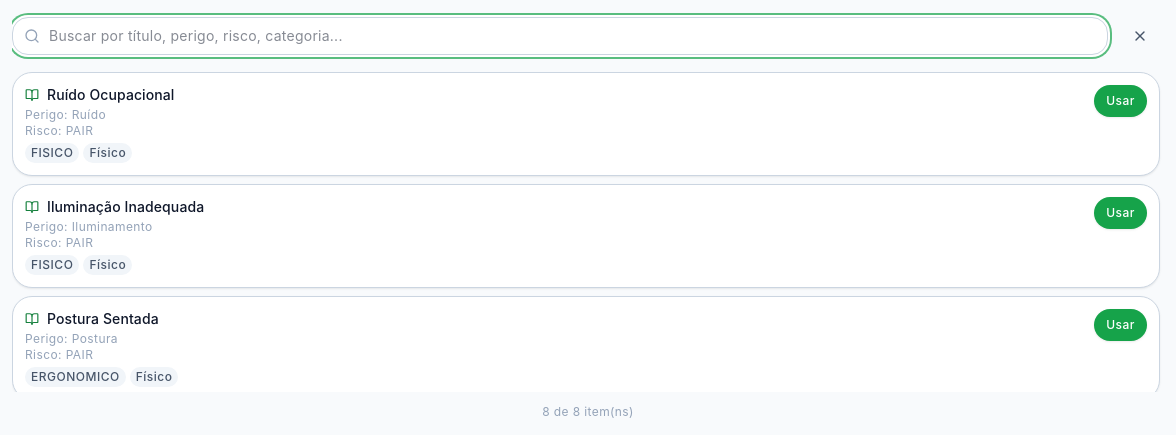
Scenario: BibliotecaRiscoSelector › mostra estado vazio quando nenhum item corresponde
Type "zzzzz" into the field with placeholder "Buscar por título, perigo, risco, categoria...".
click(560, 36); type("zzzzz")  # box [12, 17, 1108, 55]
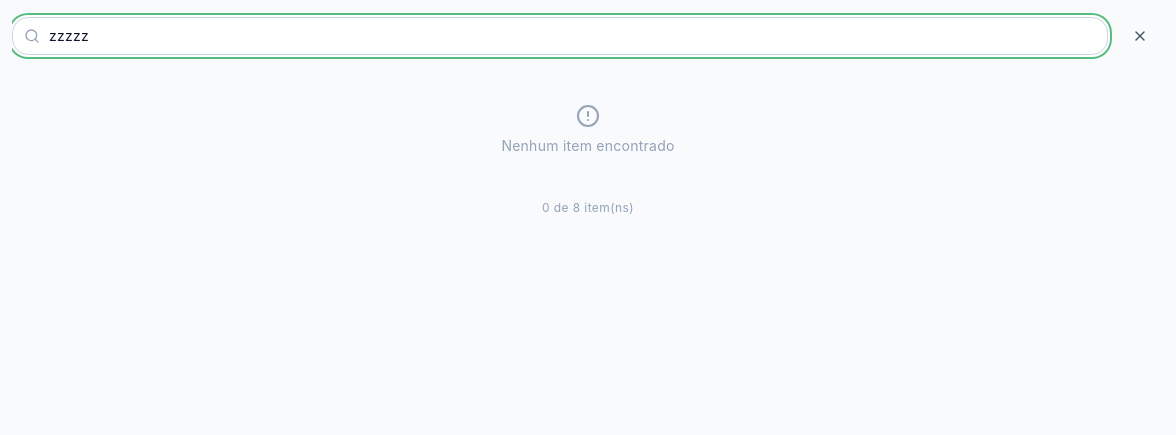
Expected: the text "Nenhum item encontrado" is shown, [501, 136, 675, 156]
